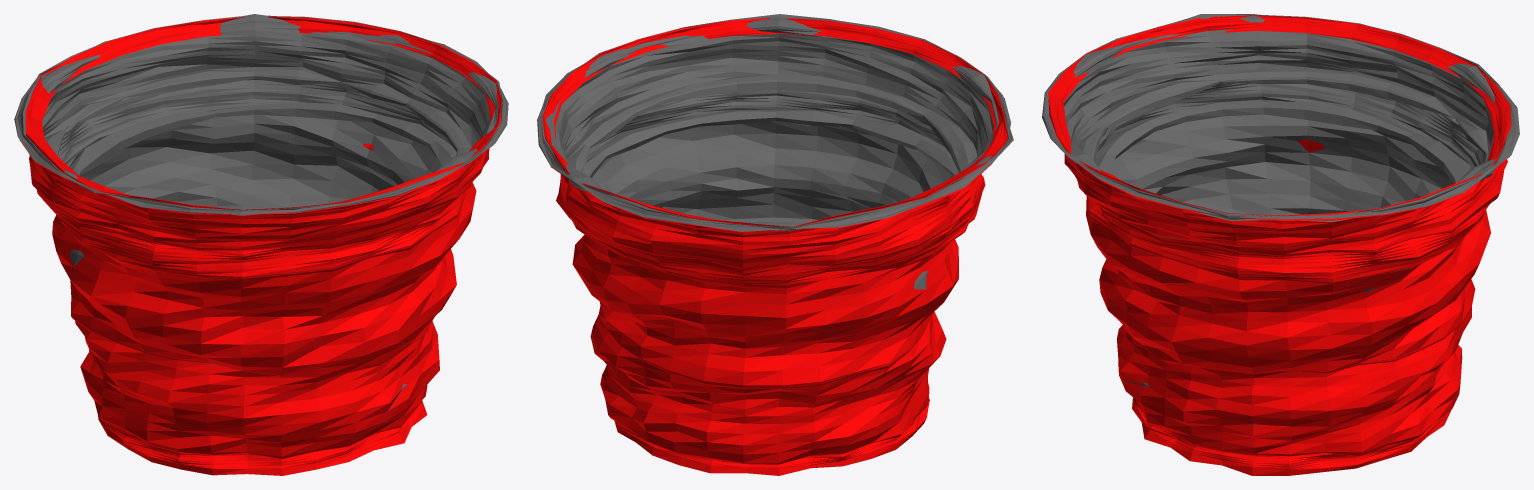
The model's file is crush_medium_1.obj.
3 renders of one model, left to right at view 1: azimuth 30°, elevation 25°; view 2: azimuth 150°, elevation 25°; view 3: azimuth 270°, elevation 25°, orthographic. The views are drawn at different scales.
Parts seen in each view (by area): view 1: model; view 2: model; view 3: model.
Part boxes in pixels (x1,y1,x2,y2): model: [14, 14, 508, 475]; model: [537, 14, 1013, 475]; model: [1042, 14, 1519, 475].
Bounding box in the file's own units: 0.0936 × 0.0647 × 0.0926.
Materials: 1 (1 with a texture image).
